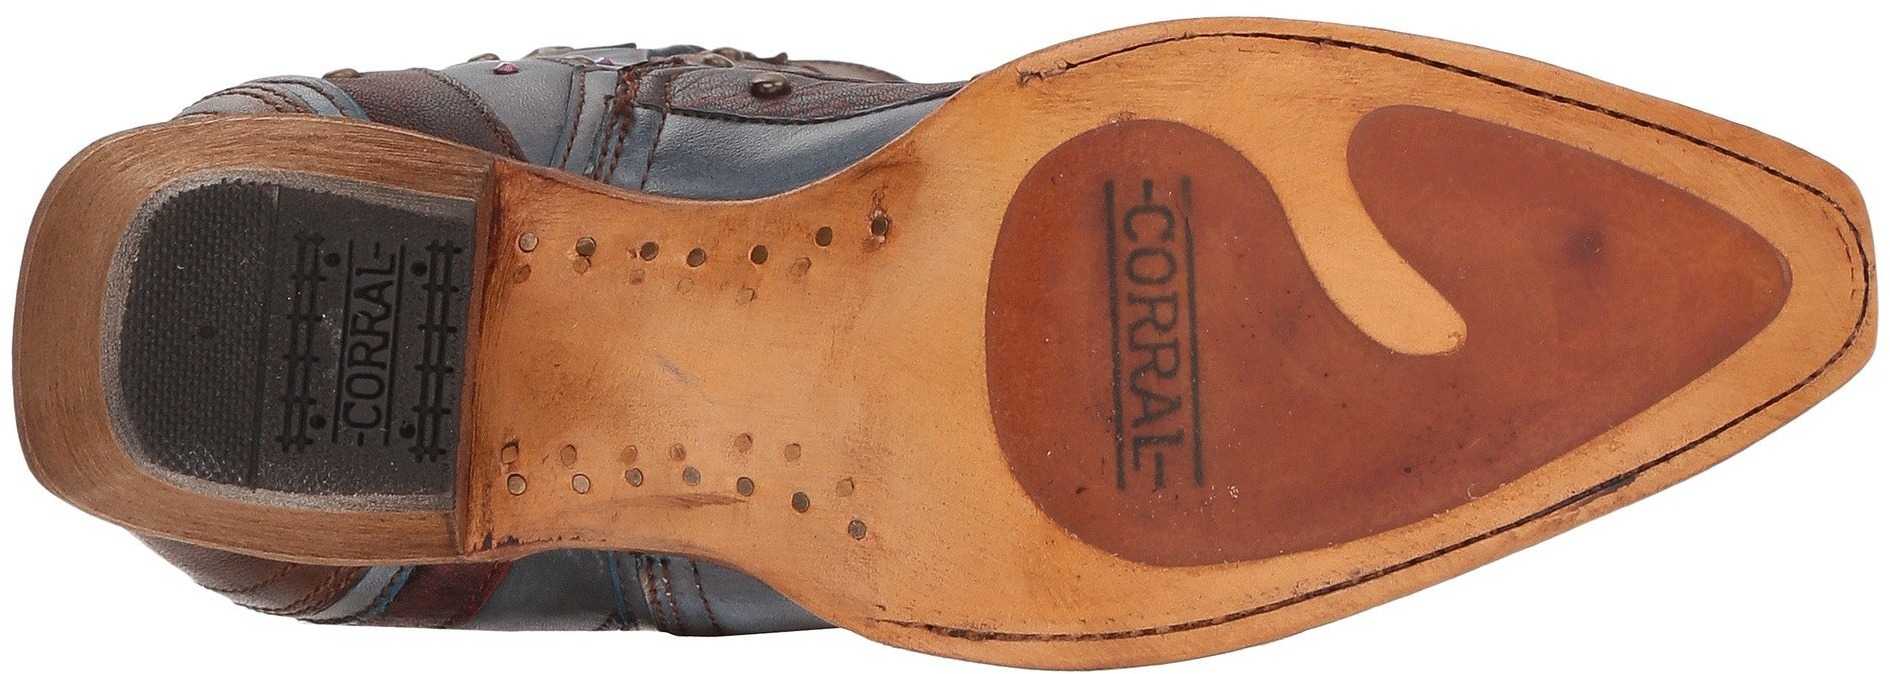circle: (294, 229, 441, 463)
line: (294, 229, 441, 463), (1111, 381, 1211, 492), (1107, 195, 1208, 274), (1121, 280, 1197, 368)
other: (1228, 135, 1587, 481), (1590, 178, 1775, 377), (1516, 204, 1695, 374), (1244, 342, 1386, 481), (137, 260, 262, 395), (1229, 47, 1321, 137)
quad: (294, 229, 441, 463)
text: (294, 229, 441, 463), (1111, 381, 1211, 492), (1107, 195, 1208, 274), (1121, 280, 1197, 368), (330, 362, 404, 446), (344, 257, 413, 326)
